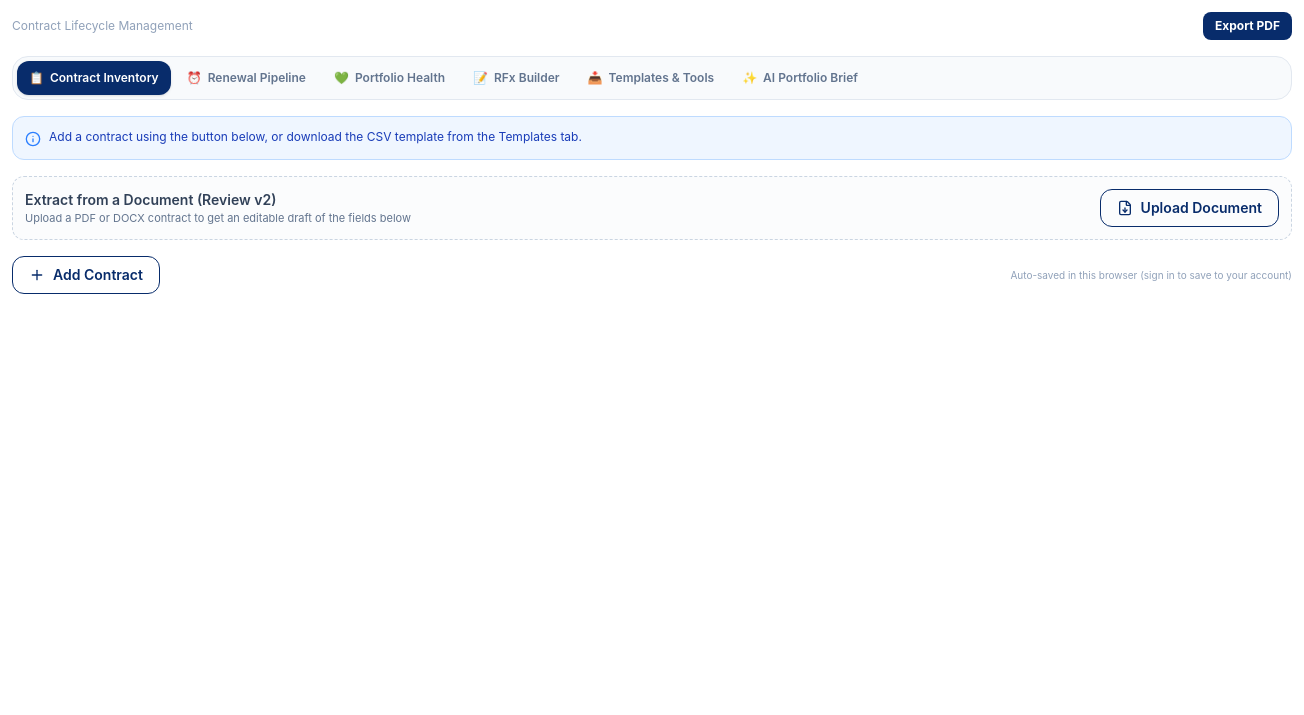
Test: ContractHealthChecker — rebate fields (#179) › renders Rebate Threshold and Purchase Volume inputs on an expanded contract card
Click the button "Add Contract" at [86, 275], box [12, 256, 160, 294]
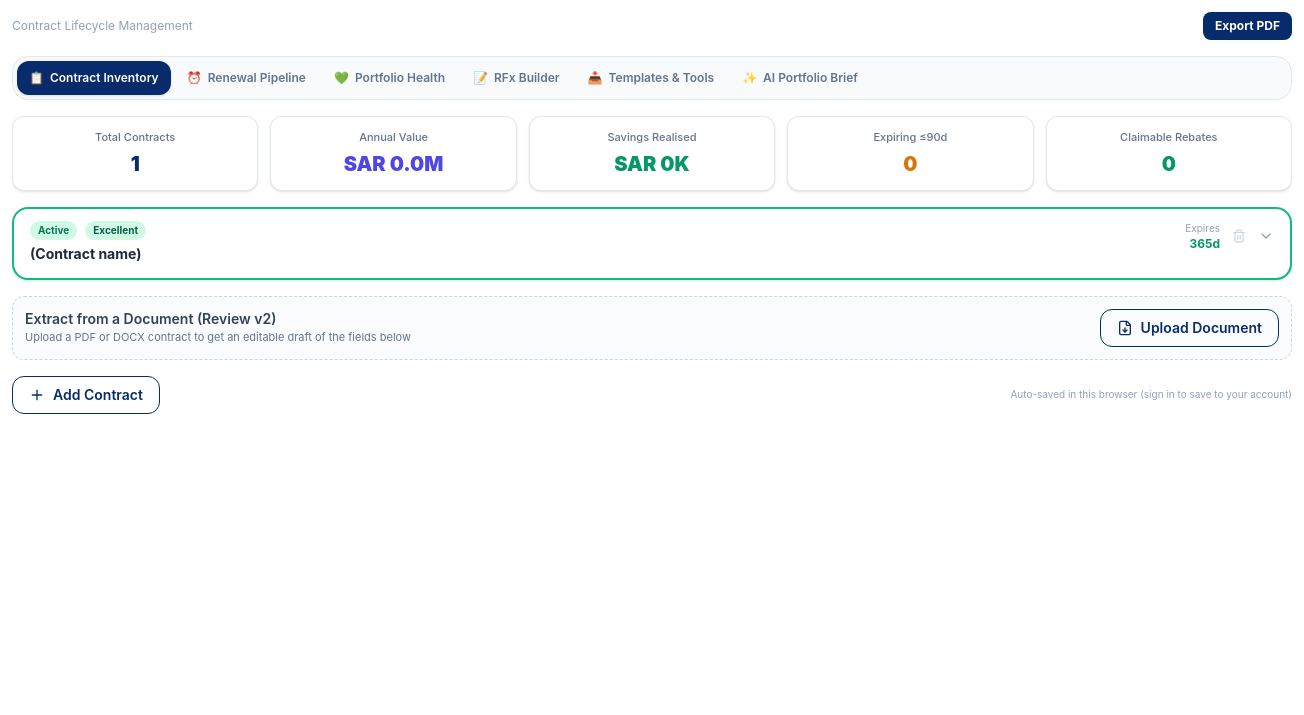
Click the text "(Contract name)" at [86, 253], box [30, 244, 142, 262]
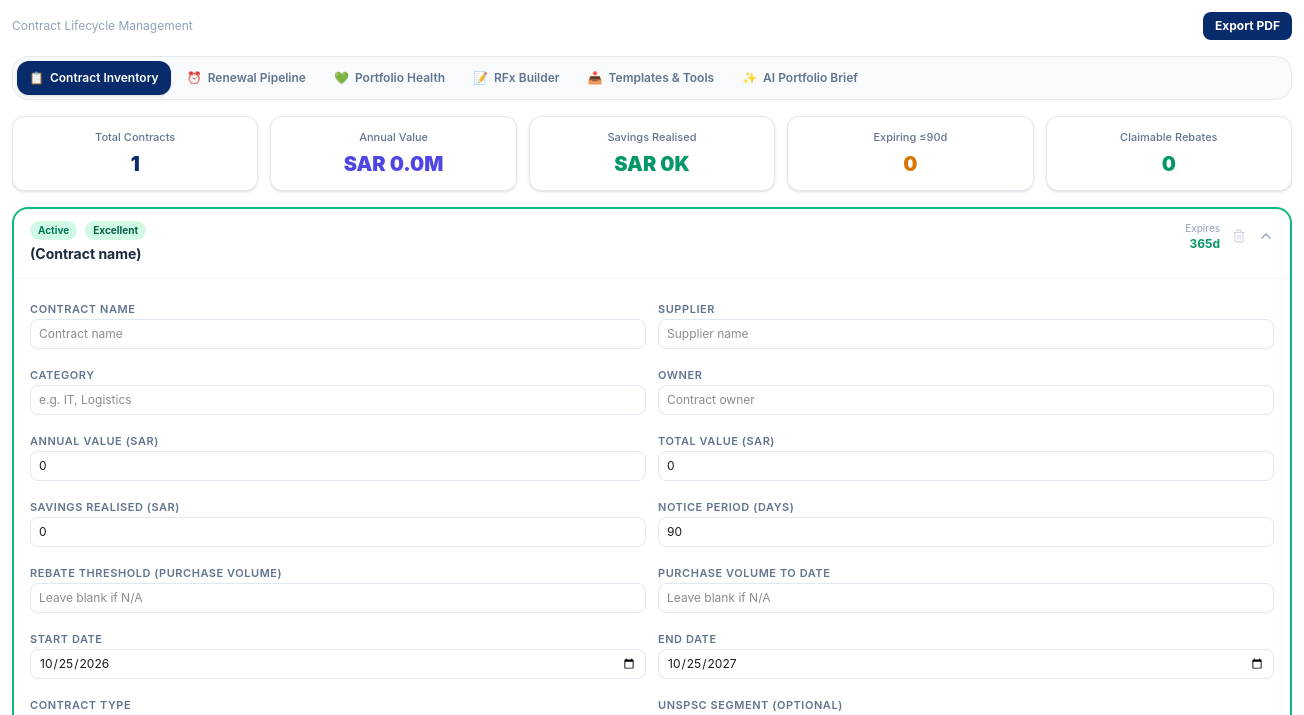
Now the number of number fields with placeholder "Leave blank if N/A" is 2, box [30, 582, 646, 612]; [658, 582, 1274, 612]
